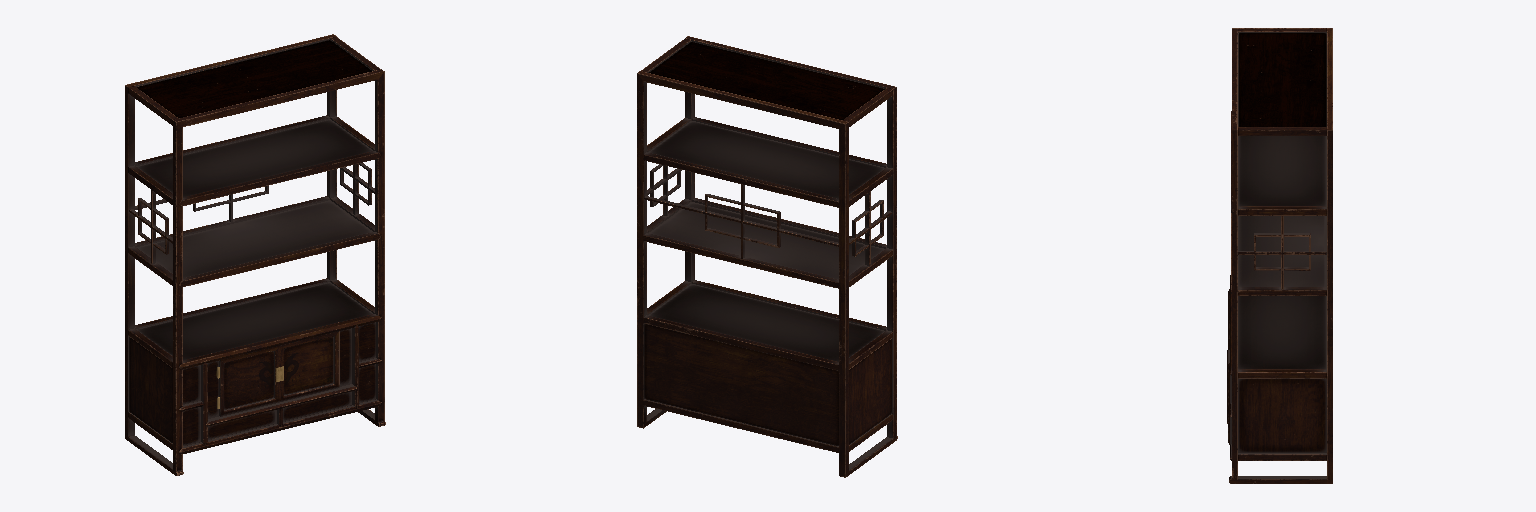
The picture shows the model from 3 angles: view 1: azimuth 30°, elevation 25°; view 2: azimuth 150°, elevation 25°; view 3: azimuth 270°, elevation 25°; orthographic projection.
Parts seen in each view (by area): view 1: Masters_shelfB_LP_lambert1_0; view 2: Masters_shelfB_LP_lambert1_0; view 3: Masters_shelfB_LP_lambert1_0.
Part boxes in pixels (left/top/right/bottom): Masters_shelfB_LP_lambert1_0: left=125, top=34, right=385, bottom=475; Masters_shelfB_LP_lambert1_0: left=637, top=36, right=897, bottom=477; Masters_shelfB_LP_lambert1_0: left=1227, top=28, right=1332, bottom=483.
Bounding box in the file's own units: 7.41 × 11.99 × 3.28.
Materials: 1 (1 with a texture image).